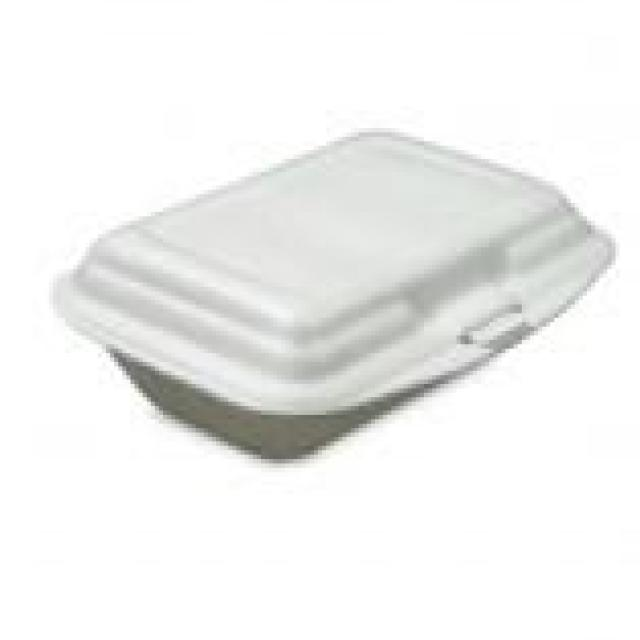styrofoam: (49, 119, 615, 459)
